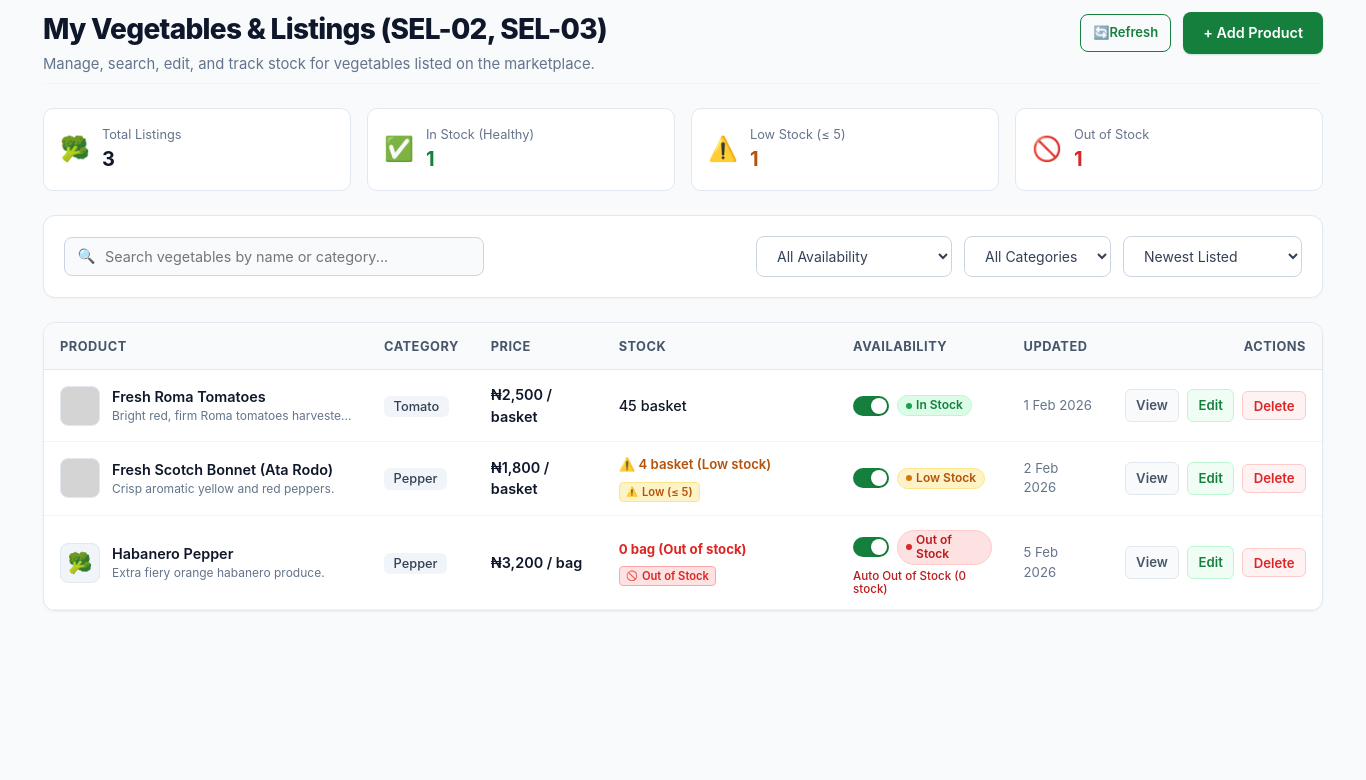
it: FE-082 / SEL-02, SEL-03: Seller Products List Page › 4. Search, Availability & Category Filters (SEL-02, SEL-07) › resets all filters when clicking Reset Filters button
Type "Tomatoes" into the search field with test id "products-search-input" at (274, 256), box [64,237,484,276]
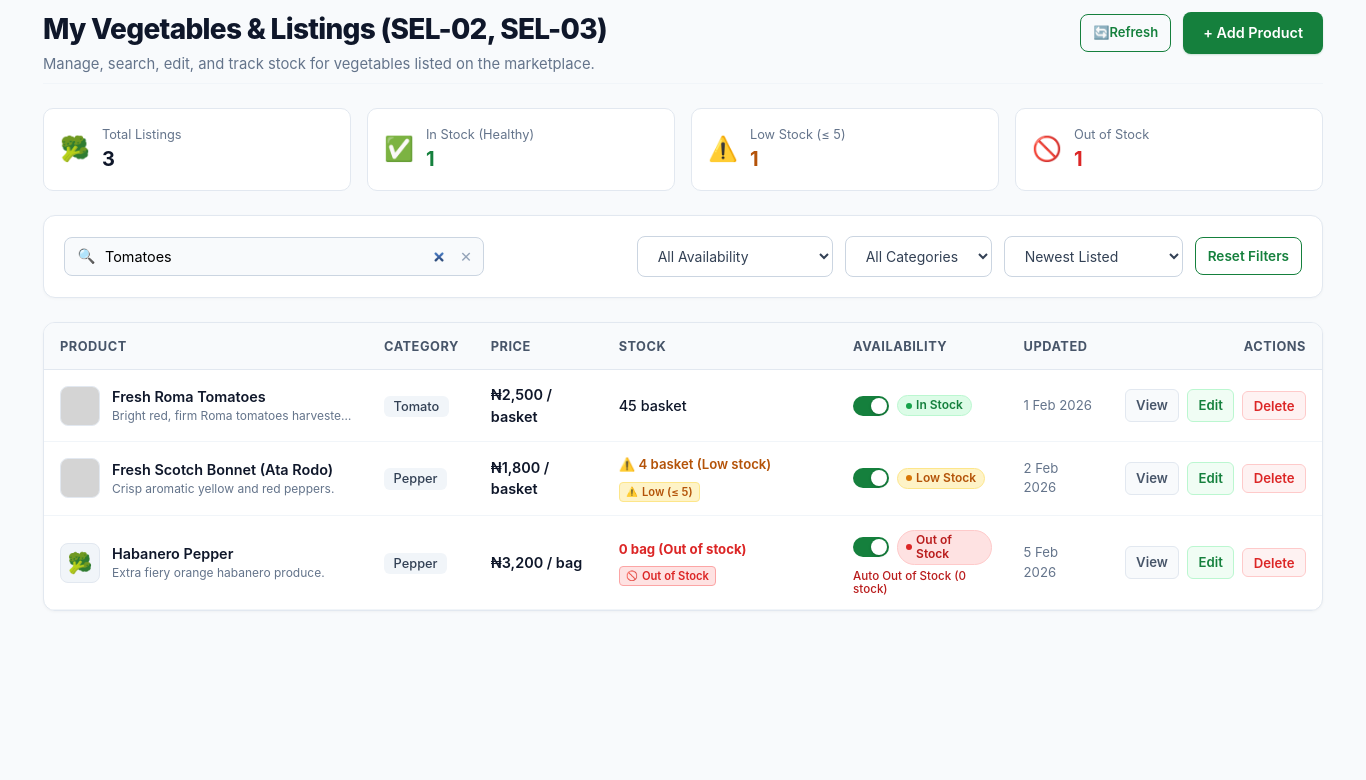
Check: the button with test id "products-reset-filters-btn" is shown
Click the button with test id "products-reset-filters-btn" at (1248, 256), box [1195,238,1302,276]
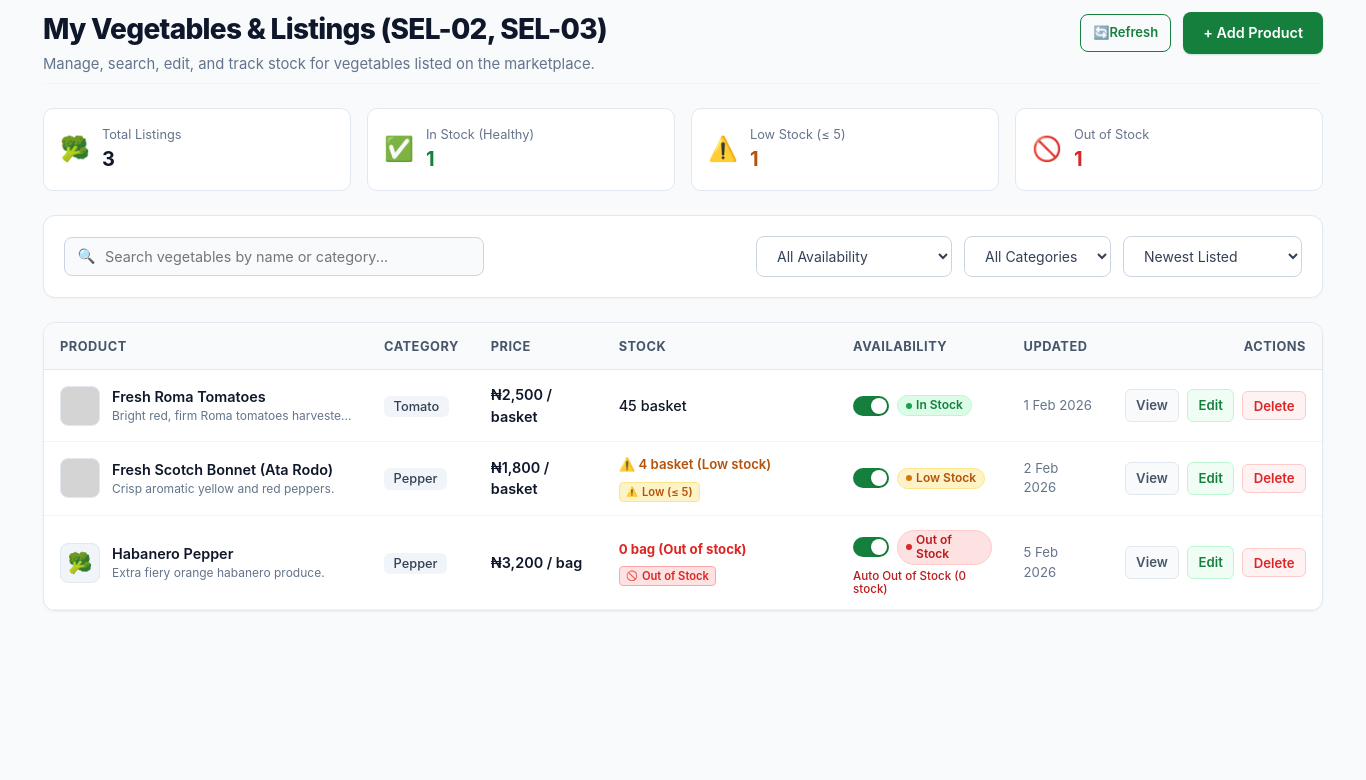
Check: the search field with test id "products-search-input" is empty, box [64,237,484,276]
Check: the button with test id "products-reset-filters-btn" is gone
